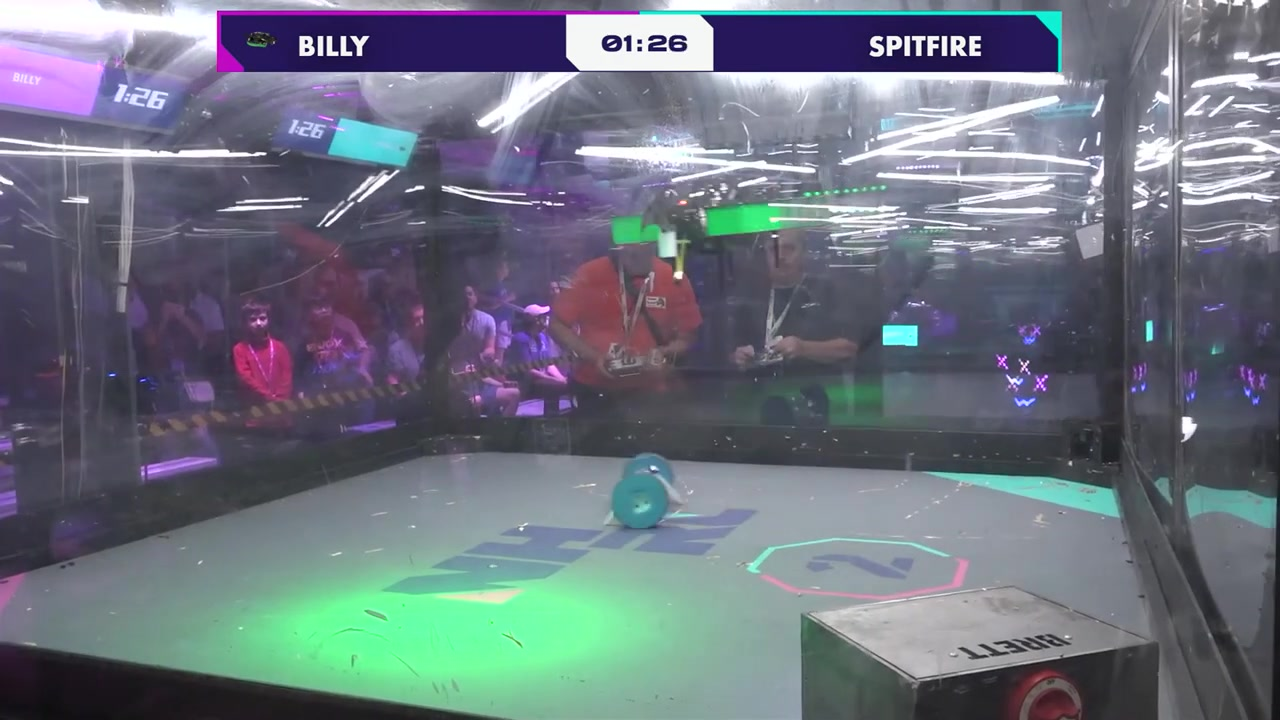combatbot: (610, 455, 688, 533)
housebot: (802, 587, 1153, 720)
